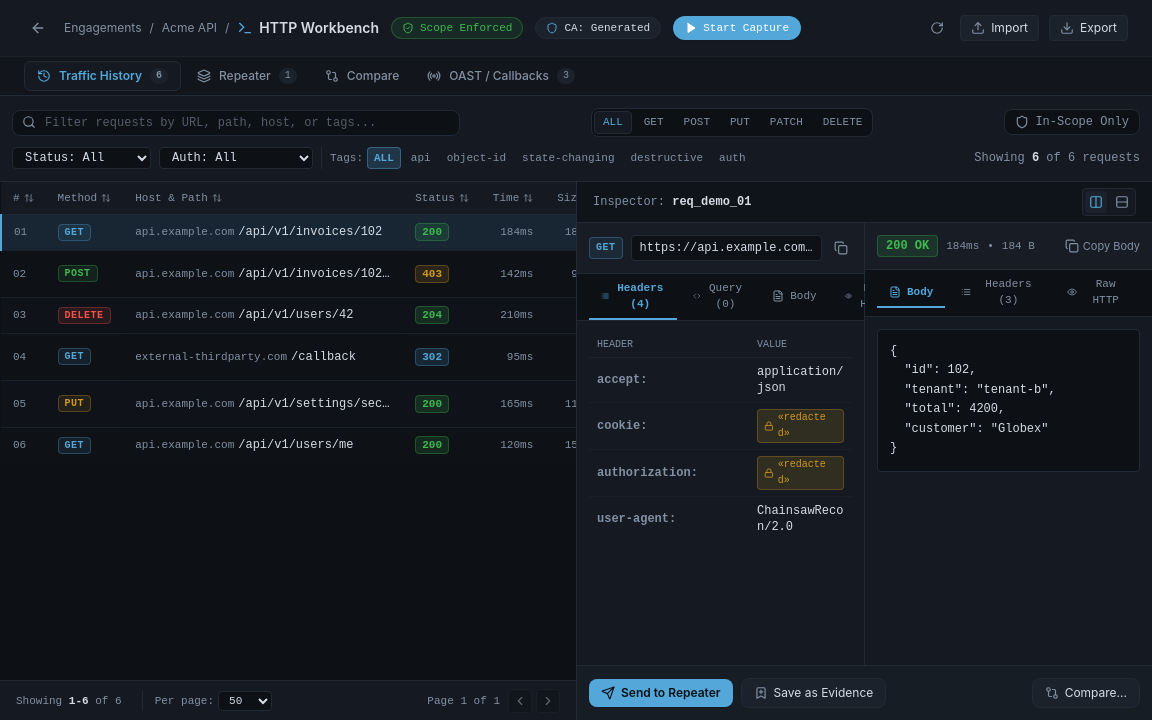
it: WorkbenchPage (Milestone 3: Native HTTP Workbench) Tests › Destructive Method Gate prompts confirmation modal before replaying DELETE or PUT
Expected: the text "/api/v1/users/42" is shown, [238,308,354,322]
Click the text "/api/v1/users/42": (513, 315) [1,297,1025,333]
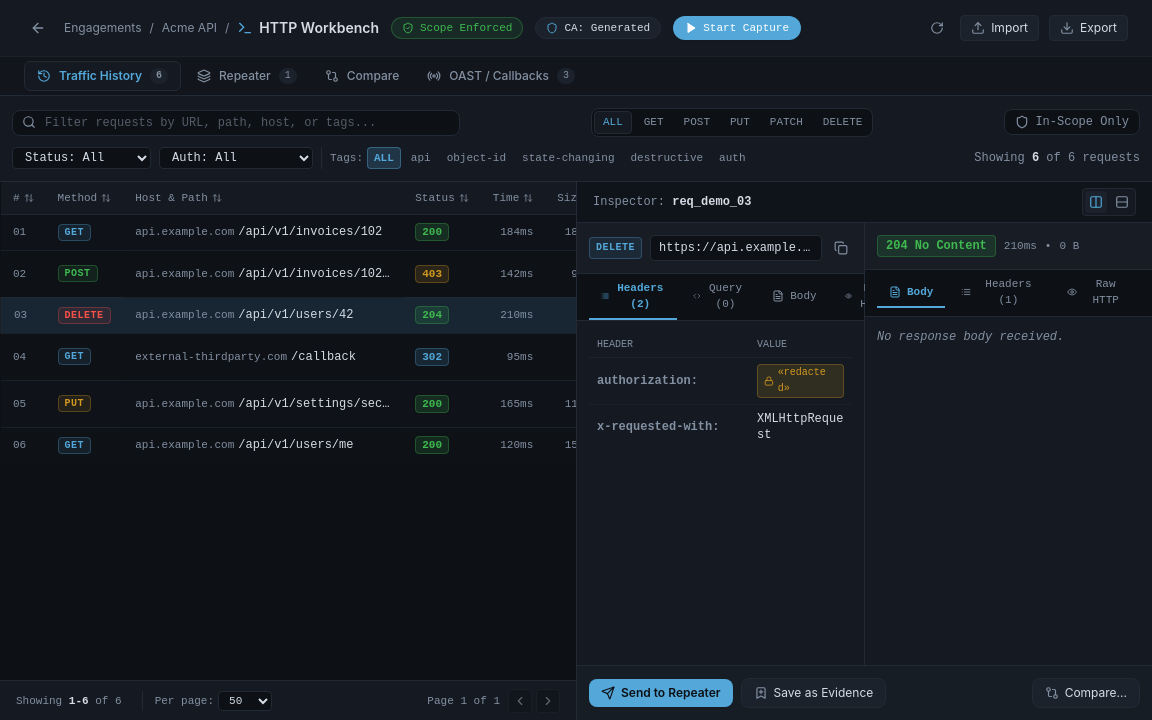
// Send to Repeater
Click the button "Send to Repeater": (661, 693) [589,679,732,707]
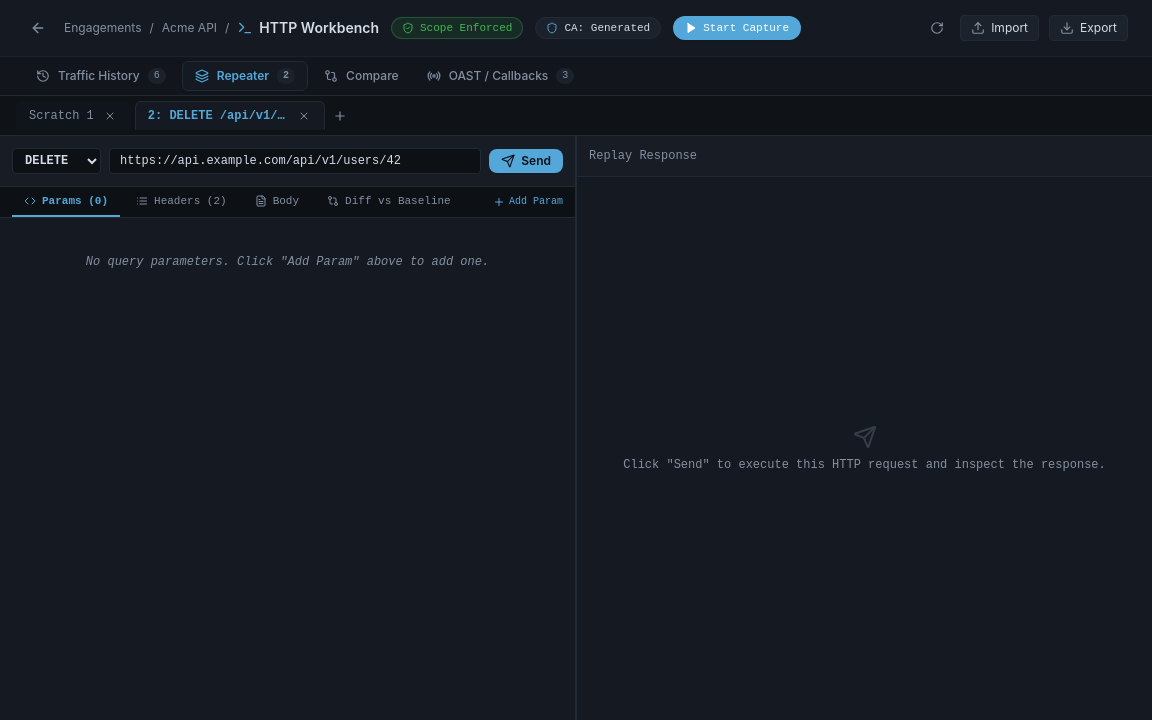
Result: the button "Send" is shown
// Click Send
Click the button "Send": (526, 161) [489,149,563,173]
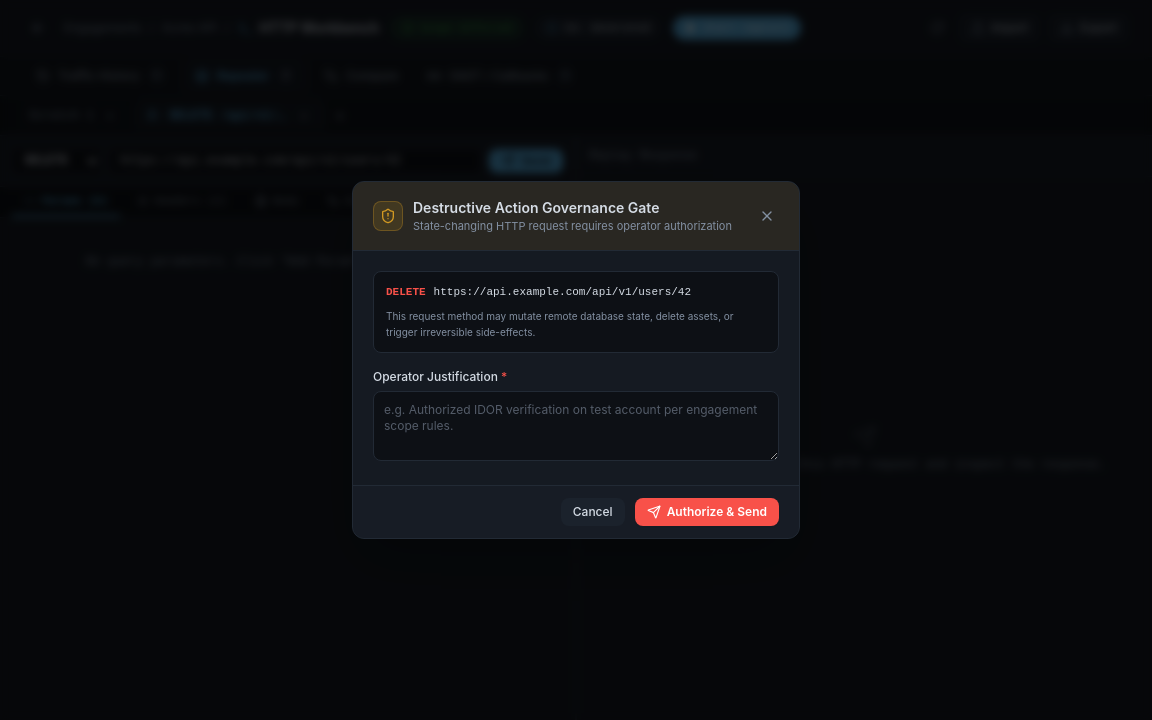
Result: the heading "Destructive Action Governance Gate" is shown at [413,199,660,216]
Result: the text box with placeholder "Authorized IDOR verification" is shown
// Fill in justification and authorize
Replace the text in the text box with placeholder "Authorized IDOR verification" with "Approved pentest simulation": (576, 426) [373,391,779,461]
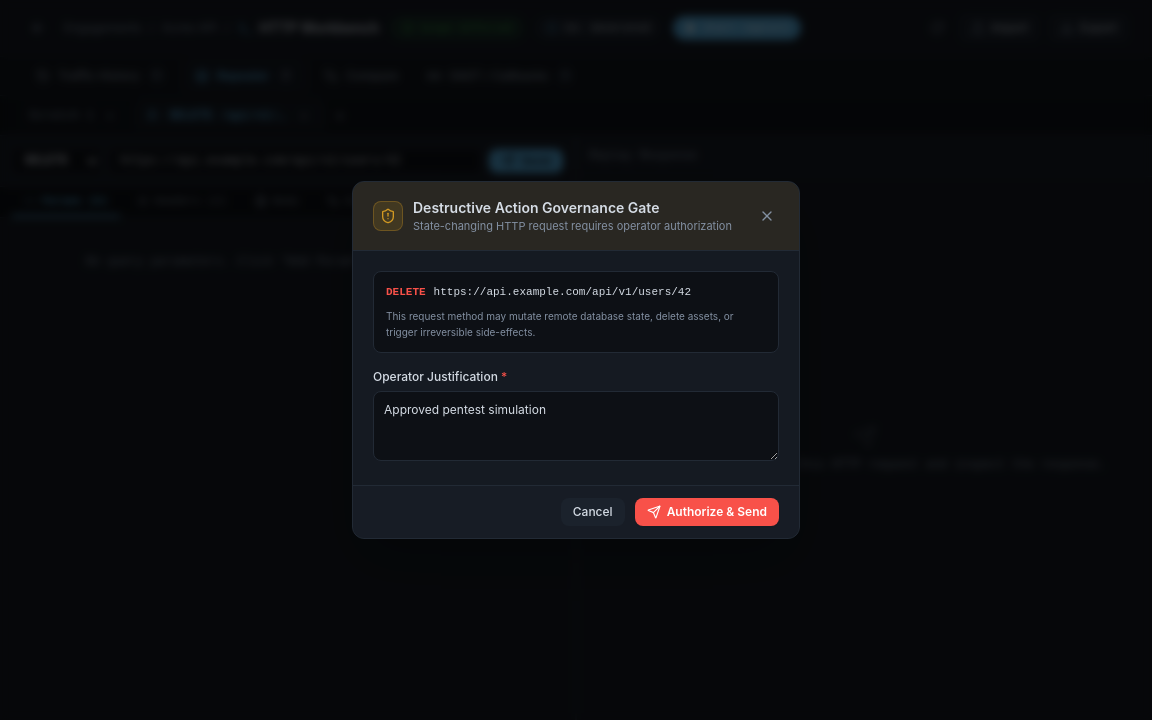
Click the button "Authorize & Send": (707, 512) [635,498,779,526]
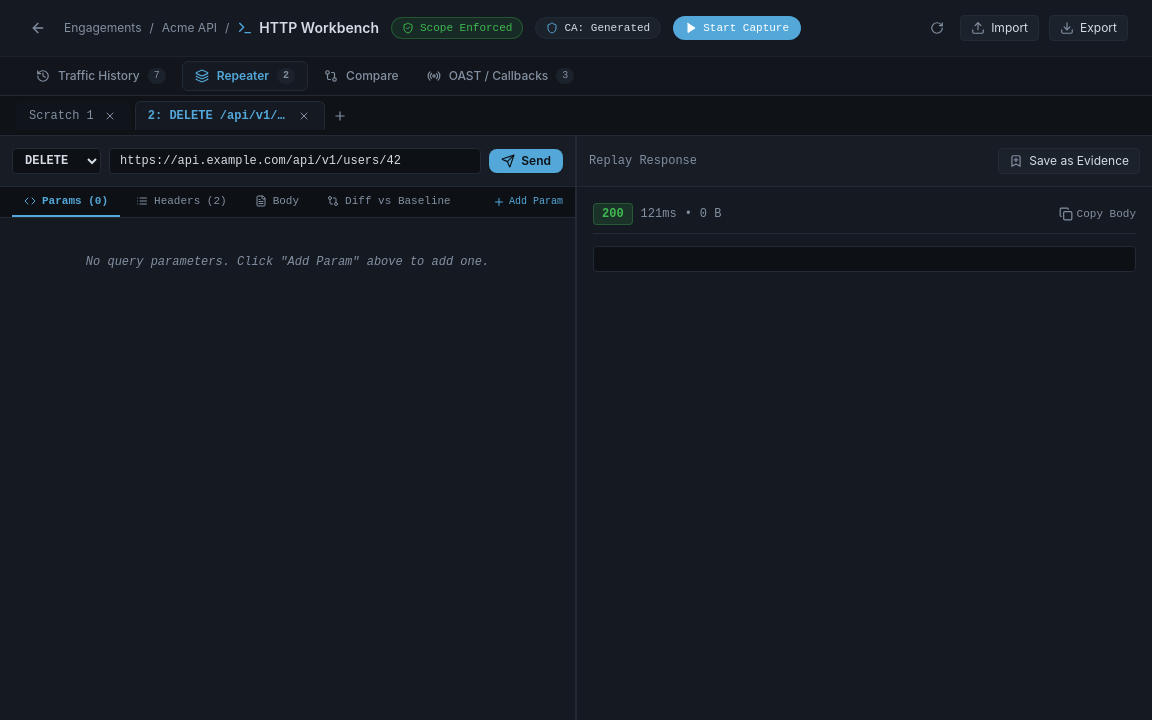
Result: the heading "Destructive Action Governance Gate" is gone
